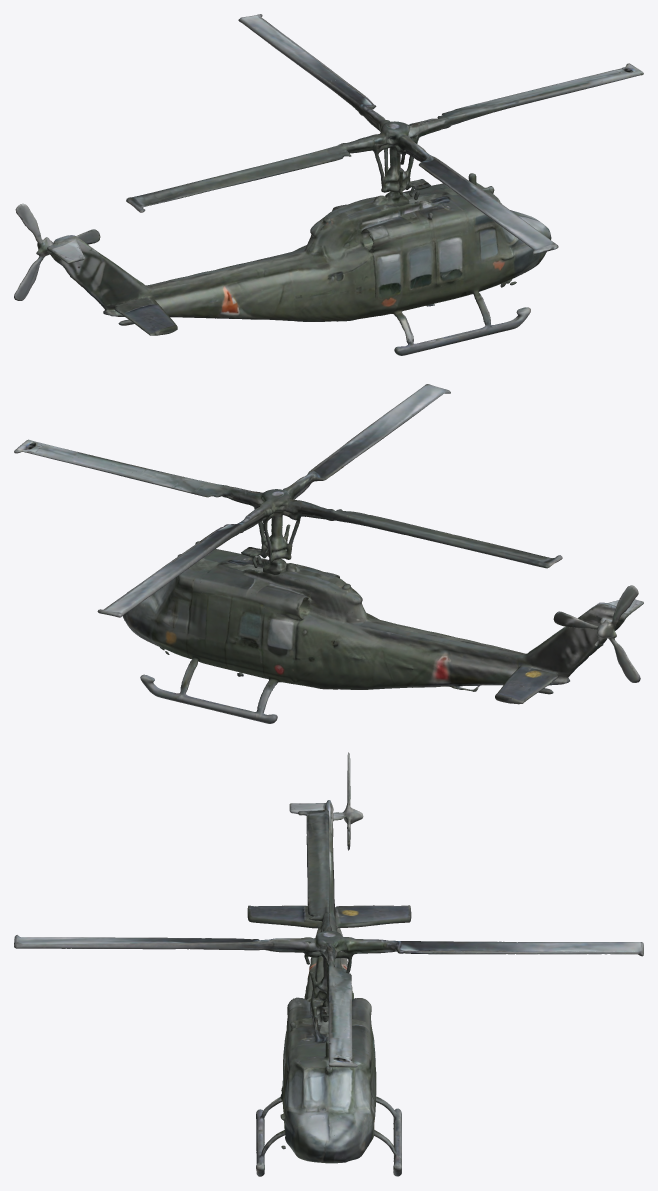
File: bell-uh-1.glb
3 renders of one model, top to bottom at view 1: azimuth 30°, elevation 25°; view 2: azimuth 150°, elevation 25°; view 3: azimuth 270°, elevation 25°, orthographic.
Visible parts, largest first — view 1: Object_4, Object_5; view 2: Object_4, Object_5; view 3: Object_4, Object_5.
Part boxes in pixels (x1=…): Object_4: x1=47, y1=14, x2=643, y2=355; Object_5: x1=14, y1=64, x2=631, y2=335; Object_4: x1=14, y1=384, x2=643, y2=723; Object_5: x1=14, y1=443, x2=640, y2=682; Object_4: x1=14, y1=800, x2=643, y2=1176; Object_5: x1=248, y1=752, x2=510, y2=1162.
Size of the model in its own units: 2.01 by 0.6256 by 1.76.
1 material, 1 textured.
